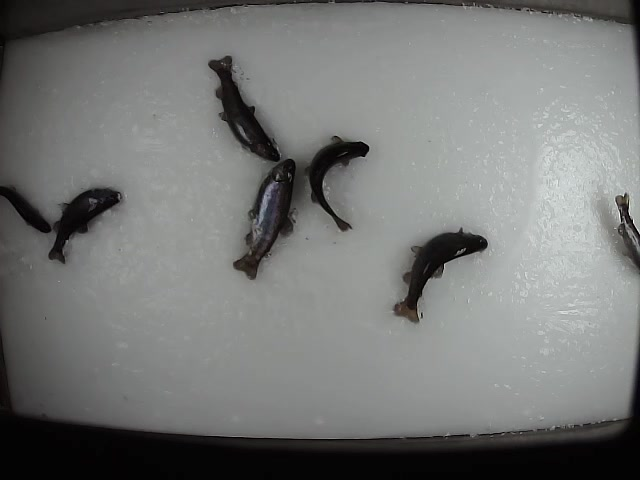Fish: (395, 225, 488, 323), (208, 55, 281, 162), (232, 158, 295, 281), (304, 136, 369, 231), (49, 188, 121, 263)
